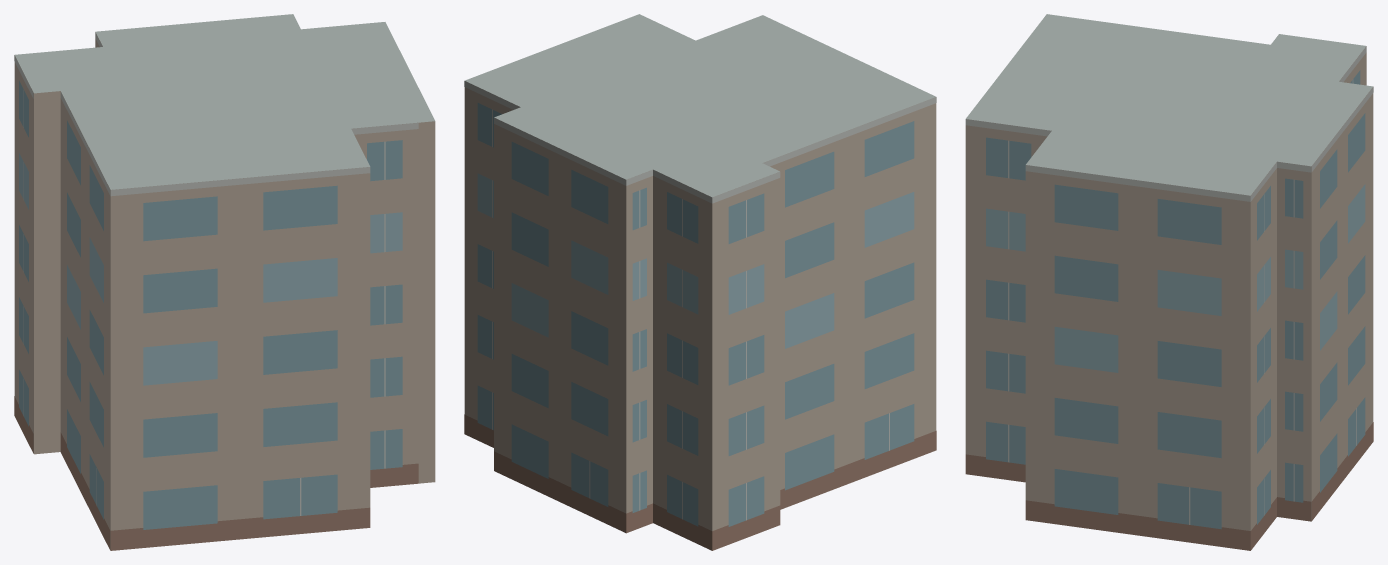
Rendered from survey-upis-32604785.glb.
3 renders of one model, left to right at view 1: azimuth 30°, elevation 25°; view 2: azimuth 150°, elevation 25°; view 3: azimuth 270°, elevation 25°, orthographic. The views are drawn at different scales.
Visible parts, largest first — view 1: survey-upis-32604785.tmp; view 2: survey-upis-32604785.tmp; view 3: survey-upis-32604785.tmp.
Part boxes in pixels (x1,y1,x2,y2): survey-upis-32604785.tmp: [14, 14, 435, 550]; survey-upis-32604785.tmp: [464, 14, 936, 550]; survey-upis-32604785.tmp: [965, 14, 1373, 550].
Size of the model in its own units: 15.2 by 13.85 by 14.42.
